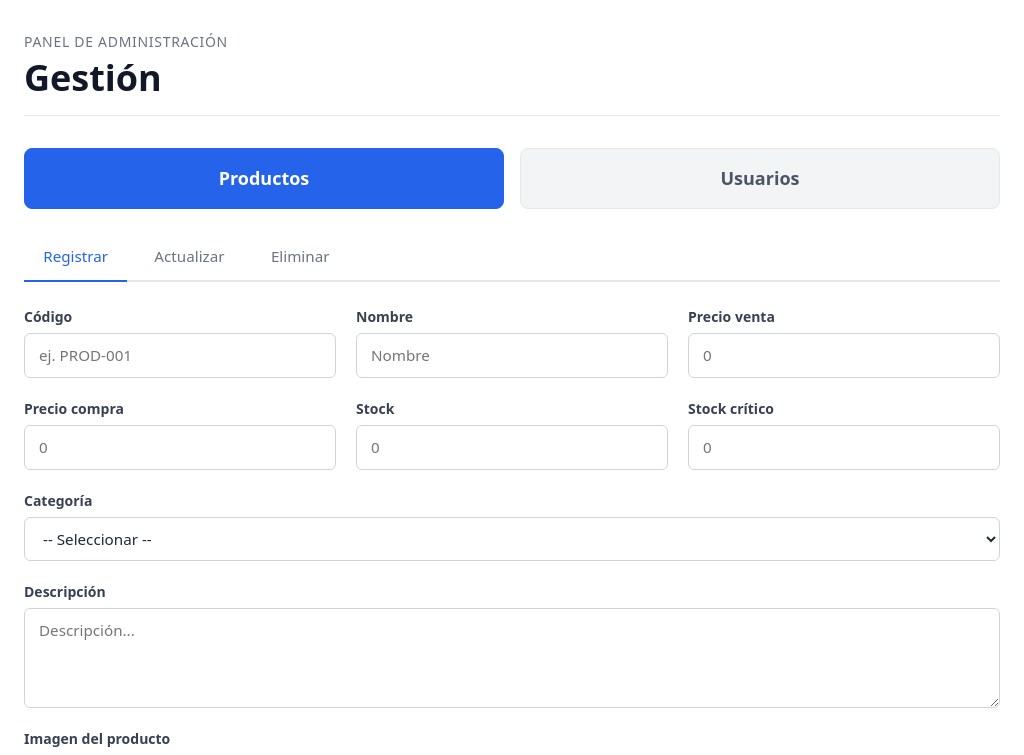
Test: Administrador › cambia al tab de Actualizar producto y muestra sus campos
Click the button "Actualizar" at (189, 258), box [135, 233, 244, 282]
(page scrolled)
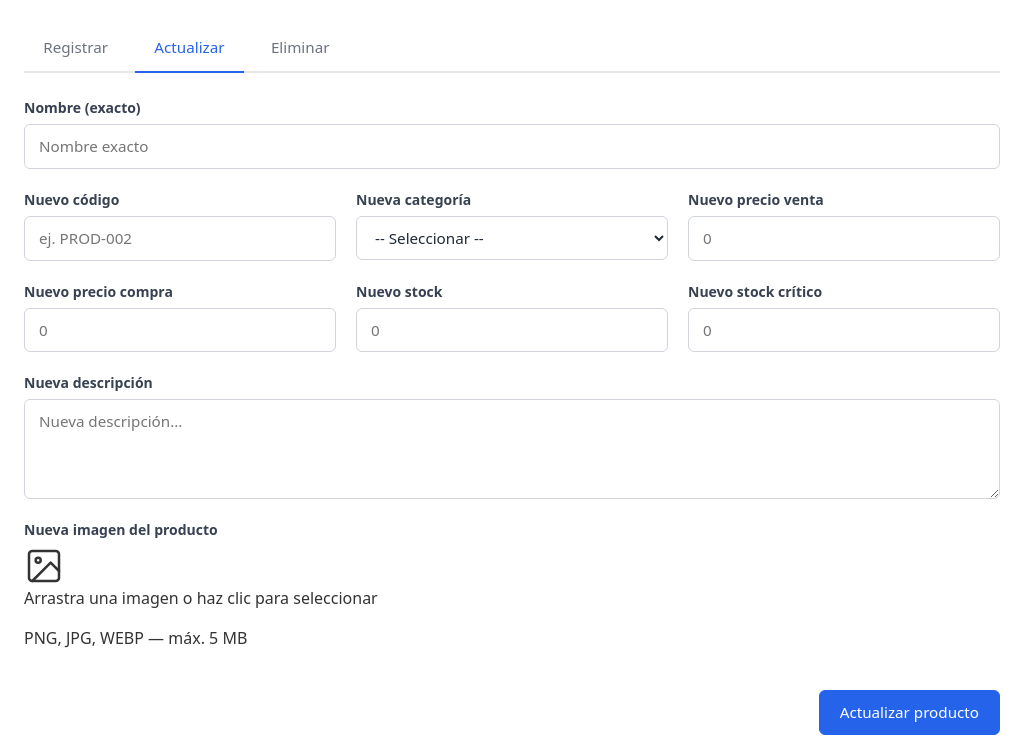
Expected: the field with placeholder "Nombre exacto" is shown, [24, 124, 1000, 169]
Expected: the field with placeholder "ej. PROD-002" is shown, [24, 216, 336, 261]
Expected: the button "Actualizar producto" is shown, [819, 690, 1000, 735]
